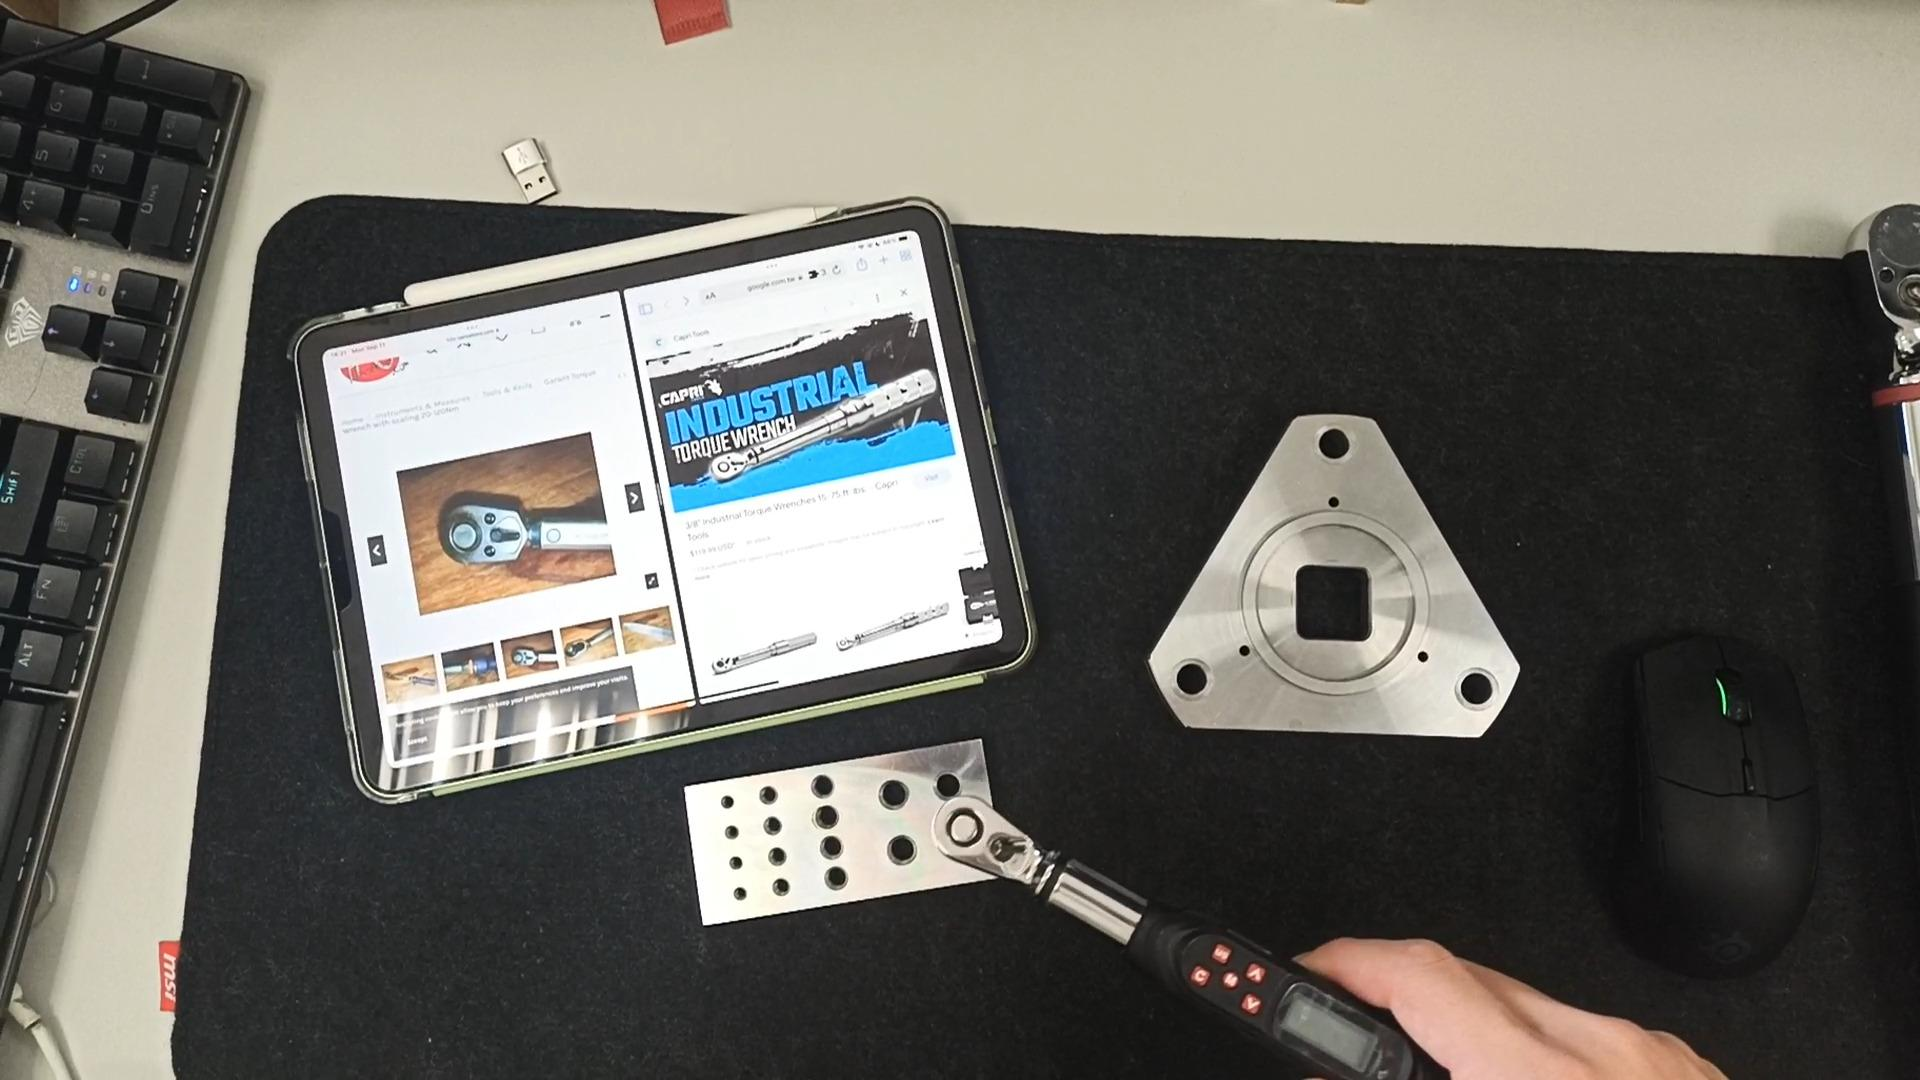Tool: (1830, 200, 1920, 385), (930, 794, 1049, 899), (429, 495, 536, 568), (702, 447, 754, 486)
hole: (1441, 671, 1509, 720), (1305, 428, 1366, 472), (1160, 661, 1218, 707), (856, 776, 917, 815), (863, 830, 922, 869), (917, 773, 960, 811), (794, 776, 840, 806), (798, 805, 846, 833), (804, 837, 850, 865), (808, 866, 854, 894), (739, 788, 778, 810), (743, 817, 782, 838), (761, 878, 798, 899), (749, 849, 786, 870), (703, 794, 738, 814), (707, 823, 741, 842), (713, 855, 746, 874), (717, 884, 748, 902)
